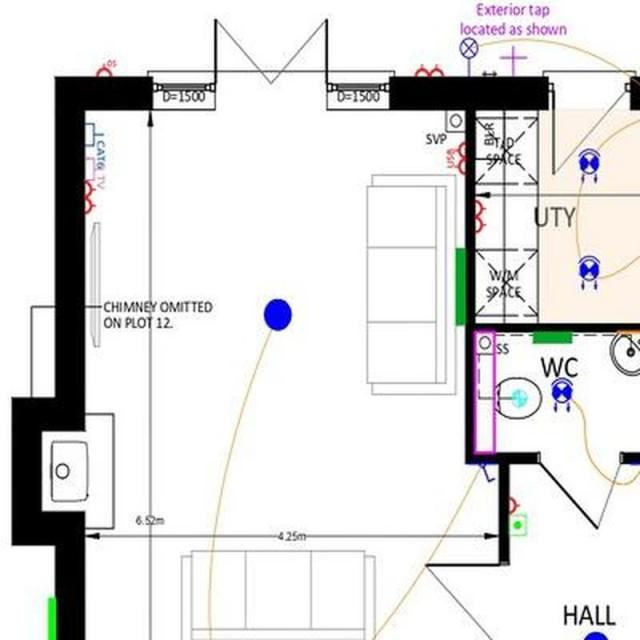Cat 6 Data Socket: (85, 122, 106, 168)
Ceiling Mounted Continuous Extract FanWith Boost Mode Activated By Light Switch: (512, 388, 526, 406)
Co-Ax TV Socket: (84, 157, 106, 189)
Double Socket: (474, 198, 486, 232), (84, 180, 96, 214), (414, 63, 443, 76)
External Wall Light: (458, 37, 478, 77)
Fused spur: (96, 58, 117, 77)
Gas Meter Box: (46, 597, 56, 639)
Light Switch: (477, 462, 495, 482)
Low Energy Downlighter: (550, 378, 573, 411), (578, 148, 600, 182), (578, 255, 599, 290)
Low Energy Pendant Light: (264, 298, 291, 329)
Outside Tap: (498, 44, 526, 76)
Programmable Room Thermostat: (508, 514, 526, 534)
Radiator: (454, 247, 465, 325), (533, 330, 571, 342)
Single Socket: (509, 496, 519, 513)
USB Double Socket: (446, 142, 464, 174)
